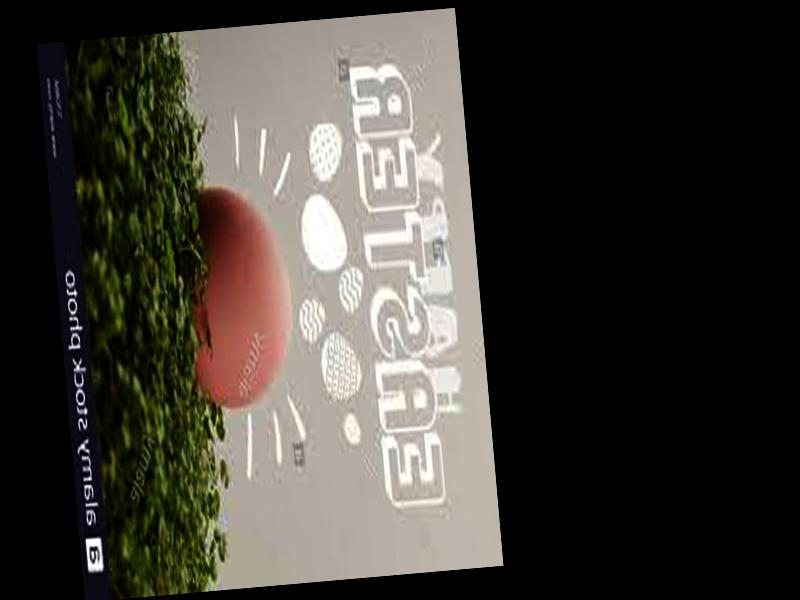Eggs: (178, 178, 297, 407)
